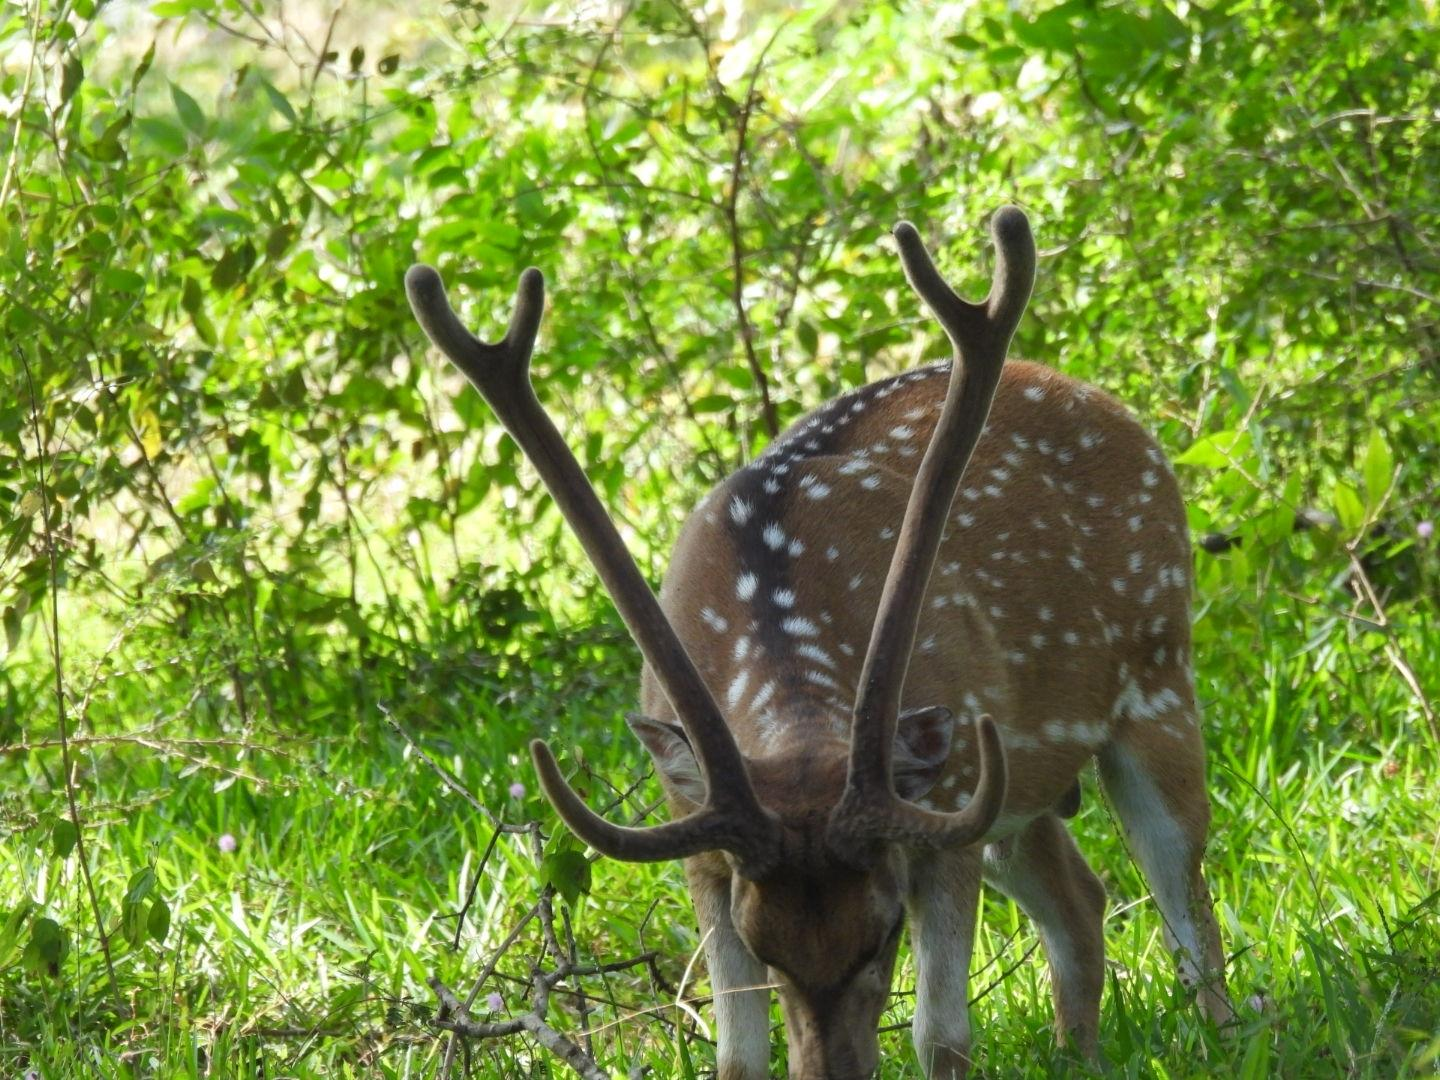Deer: (407, 205, 1231, 1079)
